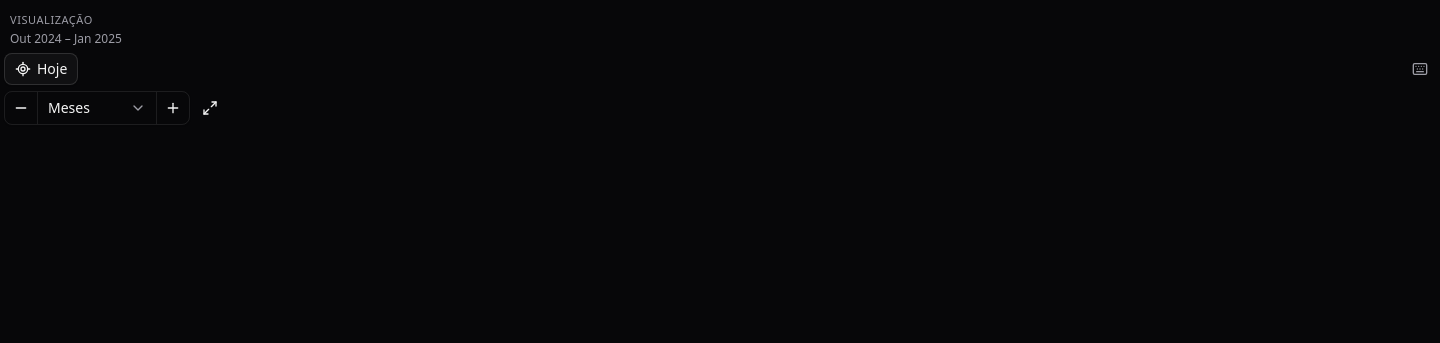
Test: TimelineViewControls › shows the nearest preset and applies a new one
Step 1. Click the button with aria-label "Nível de zoom: Meses" → click(97, 108), box [37,92,157,124]
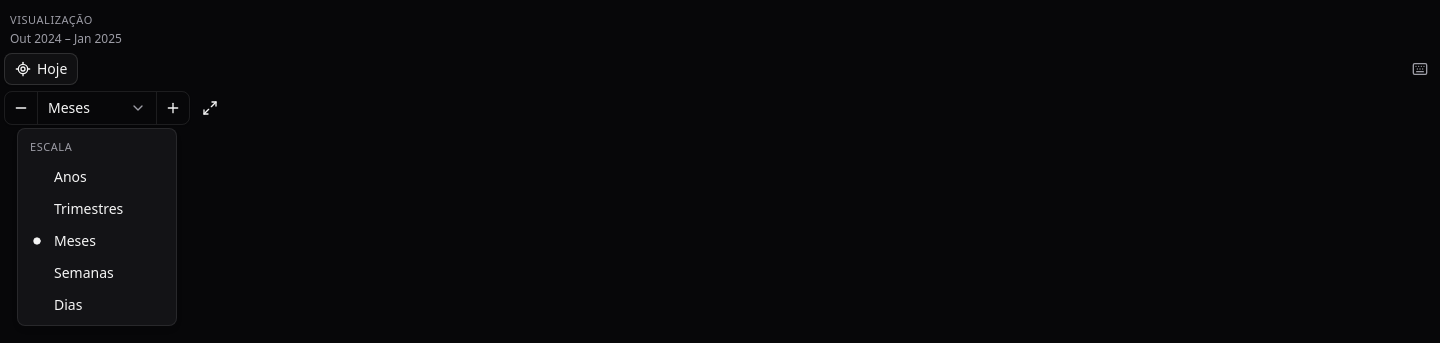
Step 2. Click the menu item "Anos" → click(70, 176), box [54,167,87,186]
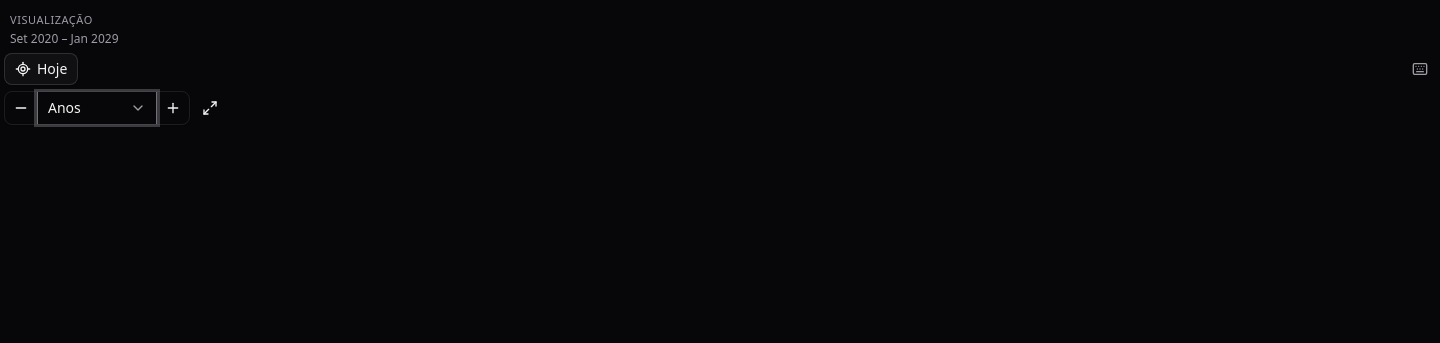
Expected: the button with aria-label "Nível de zoom: Anos" is shown, [37,92,157,124]
